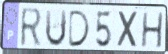5: (94, 10, 114, 49)
D: (67, 9, 92, 48)
H: (140, 12, 165, 50)
R: (19, 7, 44, 49)
U: (44, 8, 68, 49)
X: (116, 10, 140, 50)
